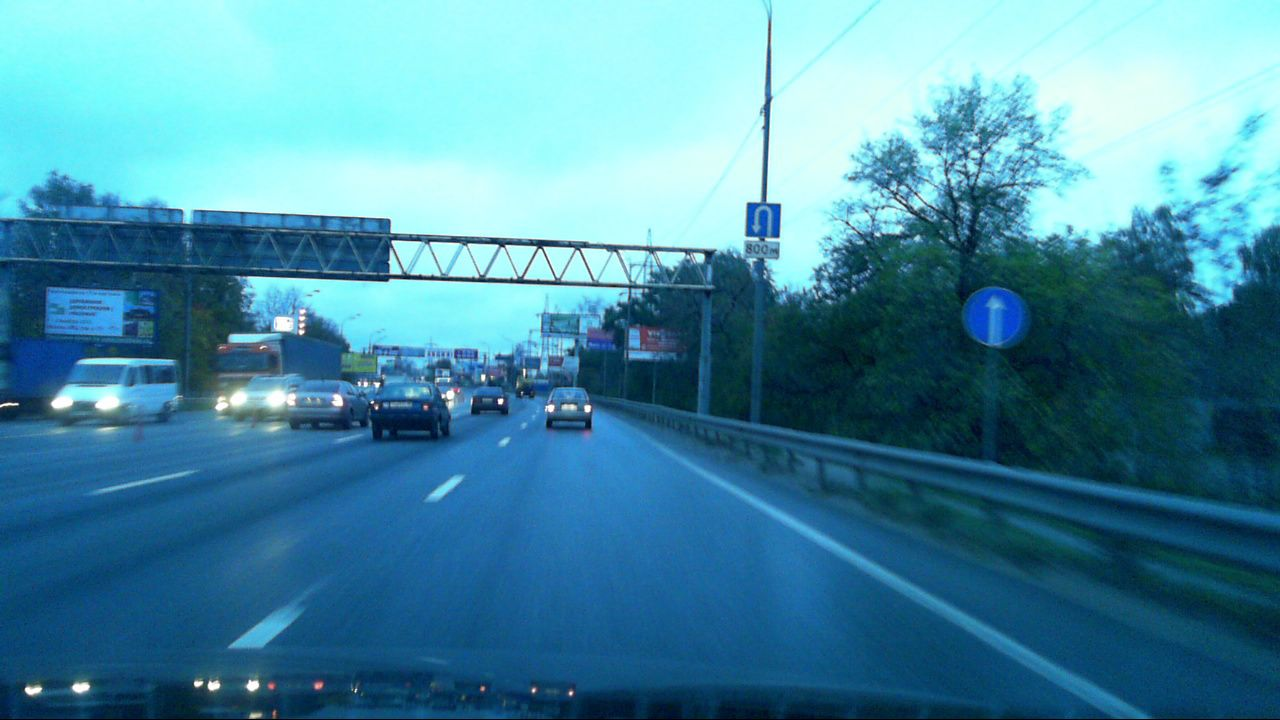U-turn: (746, 202, 781, 238)
